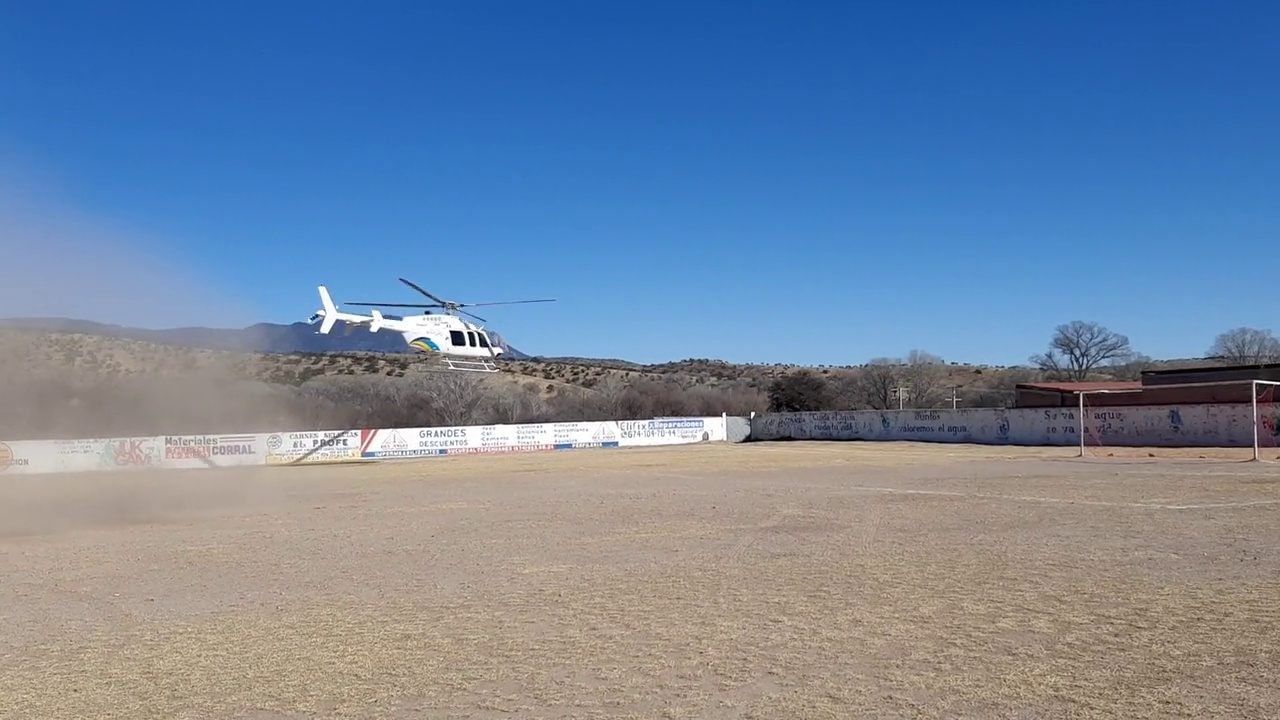heli: (310, 278, 554, 374)
